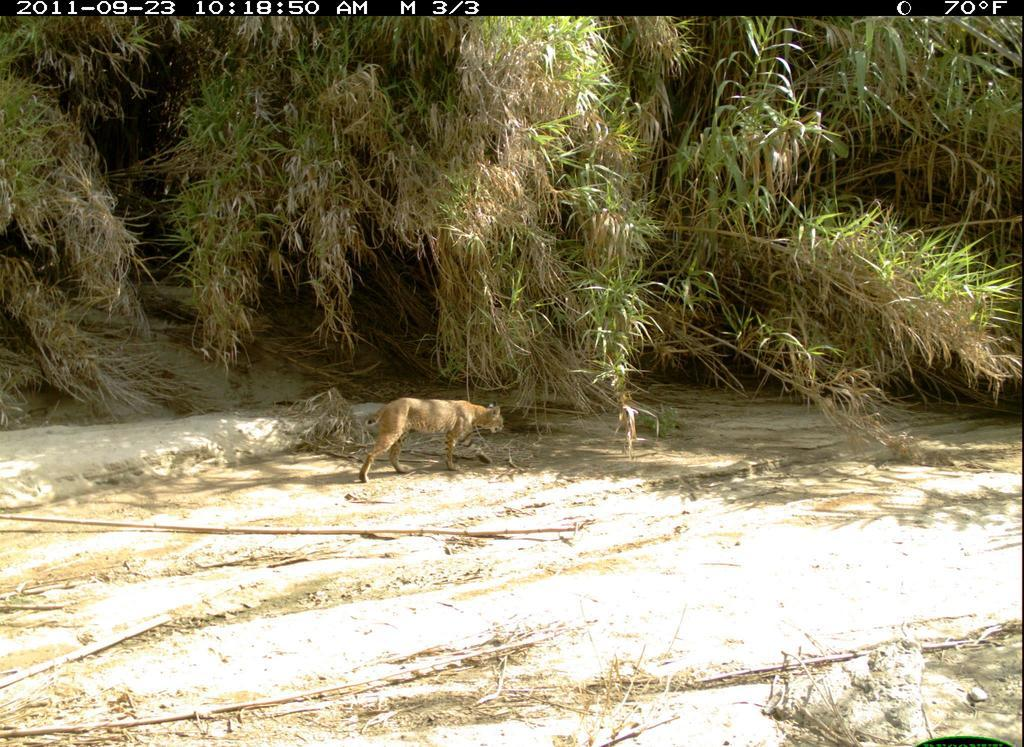bobcat: (355, 390, 506, 489)
